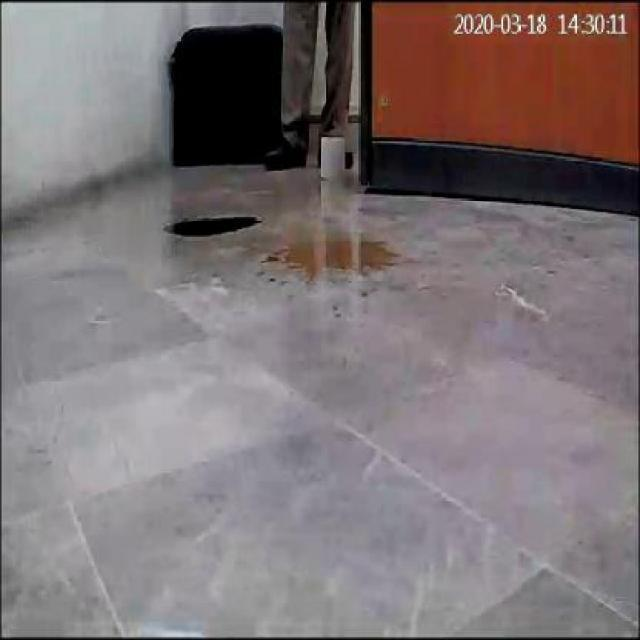spill: (259, 230, 390, 284), (165, 213, 261, 234)
